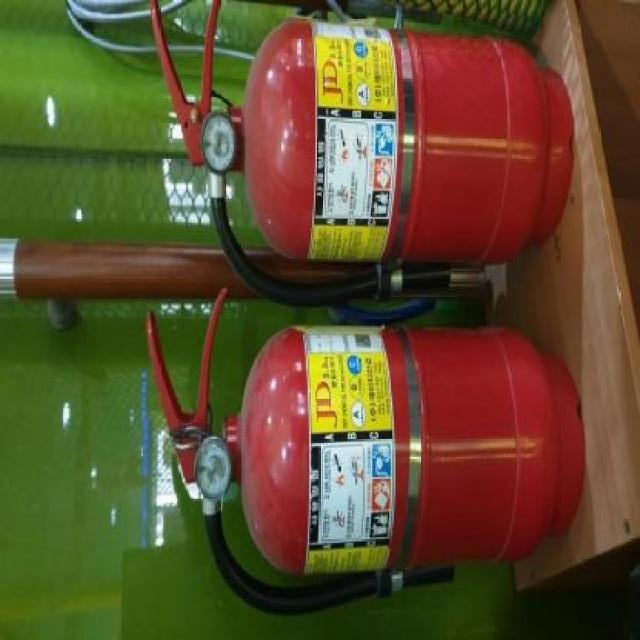fire extinguisher: (146, 288, 586, 617), (150, 0, 575, 313)
